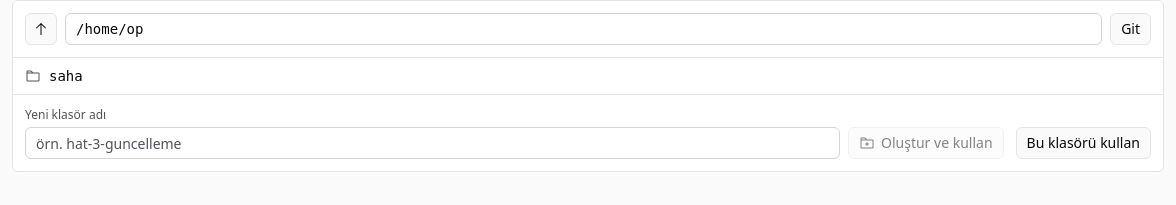
Scenario: FolderBrowser › goes to the parent folder with Üst klasör
Click the button "saha".
click(66, 76)  # box 13,58 -> 1163,94
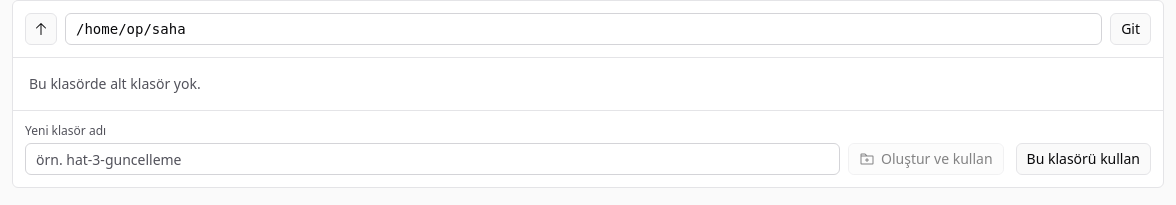
Now the field named "Klasör yolu" holds "/home/op/saha", box 65,13 -> 1102,45
Click the button named "Üst klasör".
click(41, 29)  # box 25,13 -> 57,45
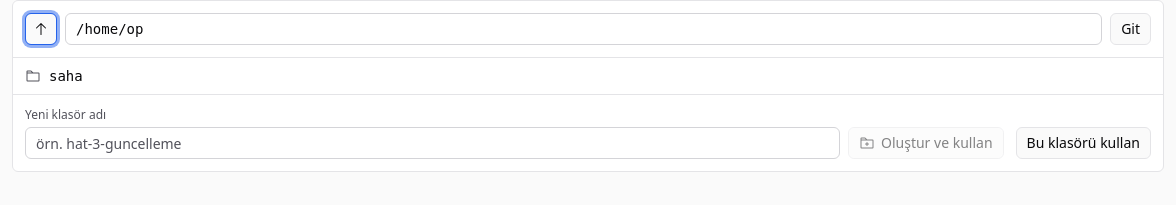
Now the field named "Klasör yolu" holds "/home/op", box 65,13 -> 1102,45
